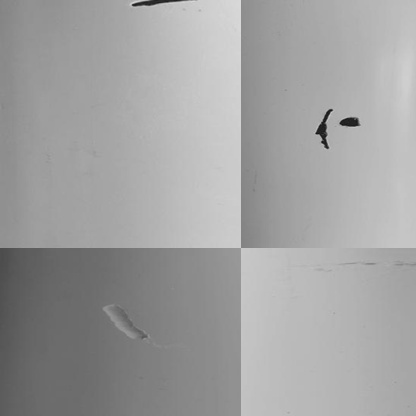fengxi: (131, 2, 188, 7)
kongdong: (314, 101, 335, 155), (340, 115, 361, 129)
sunshang: (97, 302, 149, 345)
